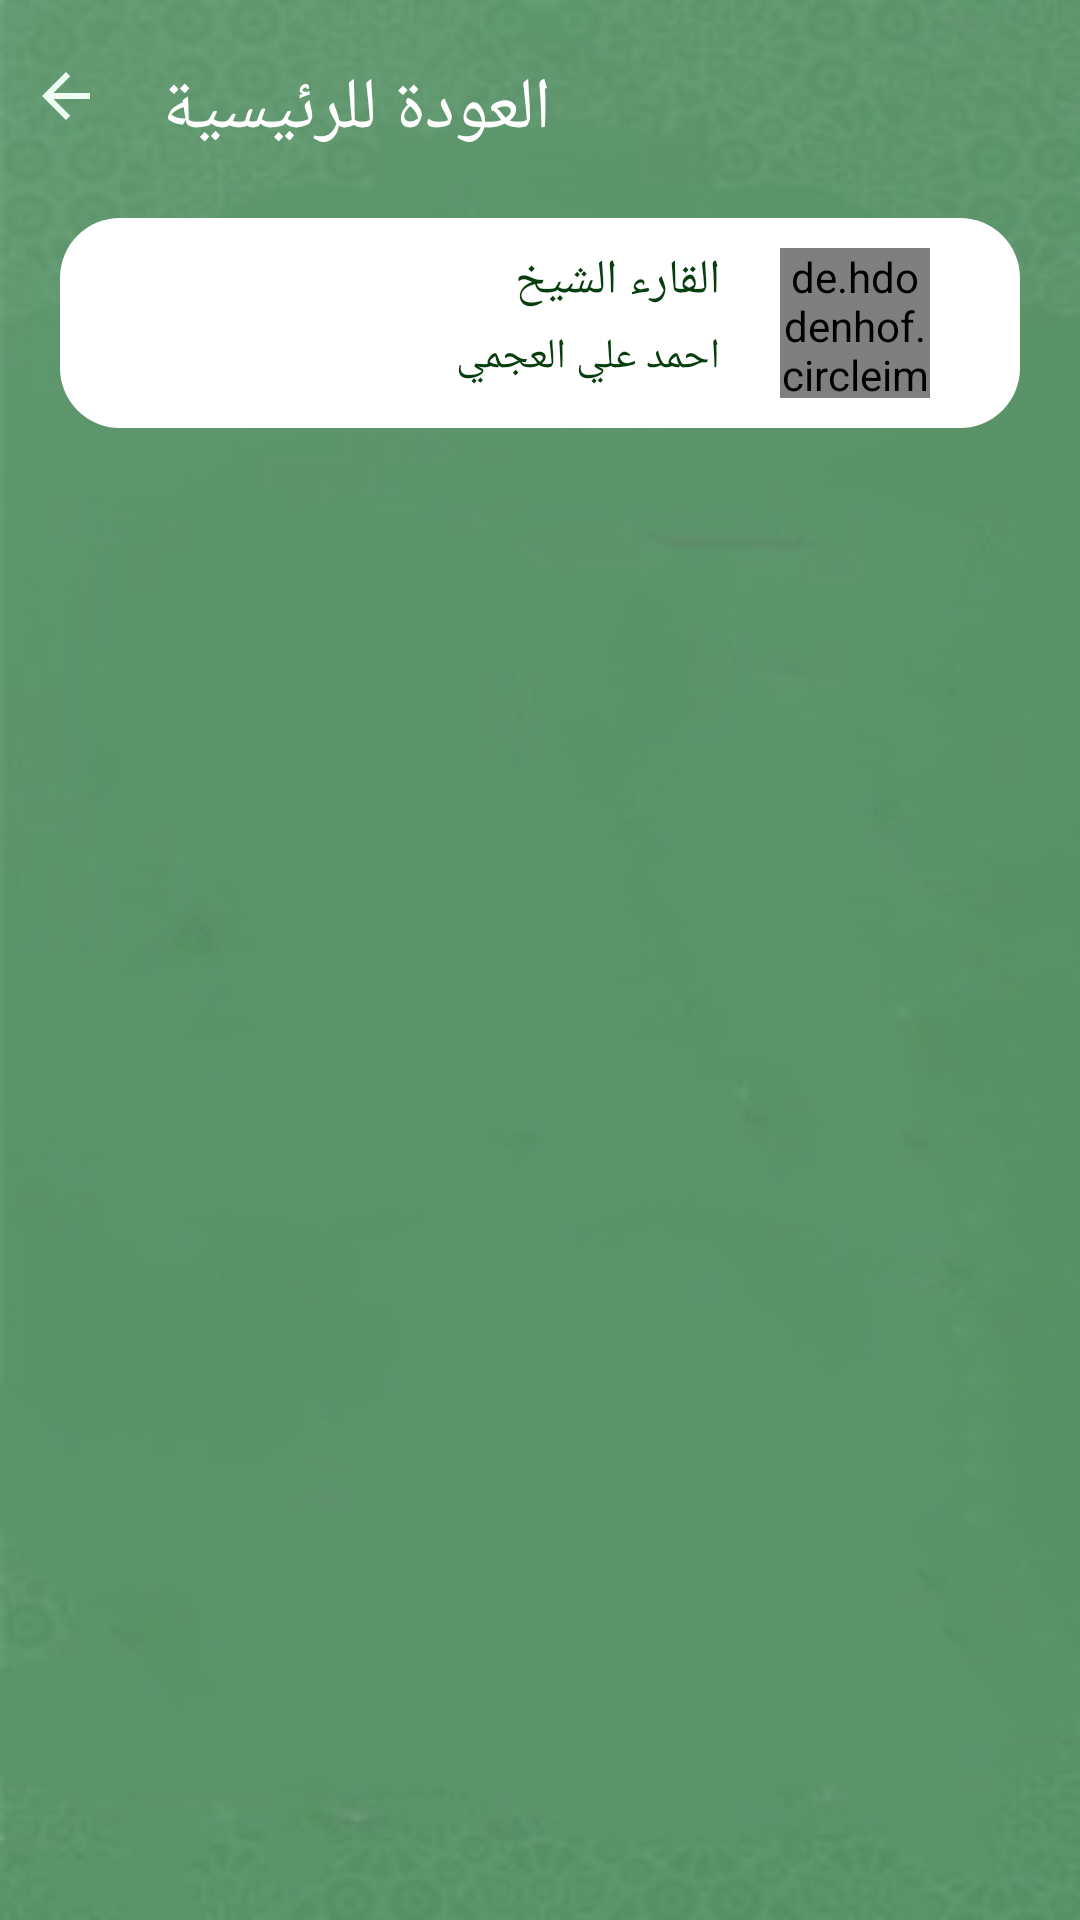

Icons on this 1080×1920 Android screen, each with the point to tap as (x,y):
arrow back: (66,96)
